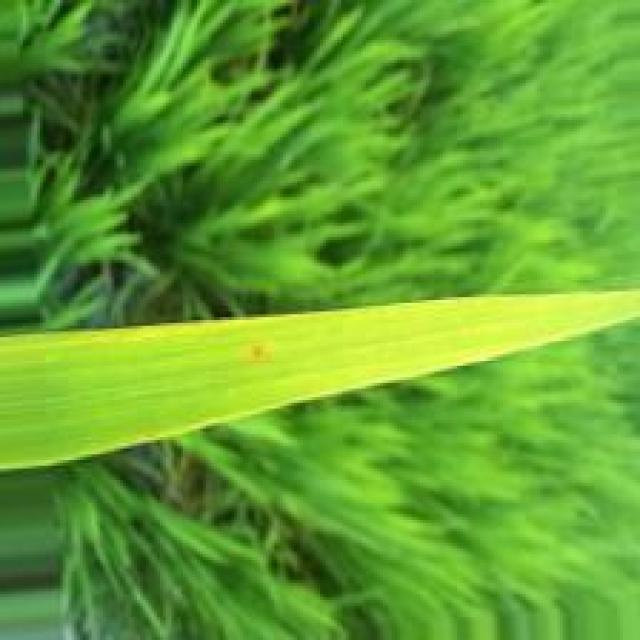Brown_Spot: (250, 343, 270, 364)
